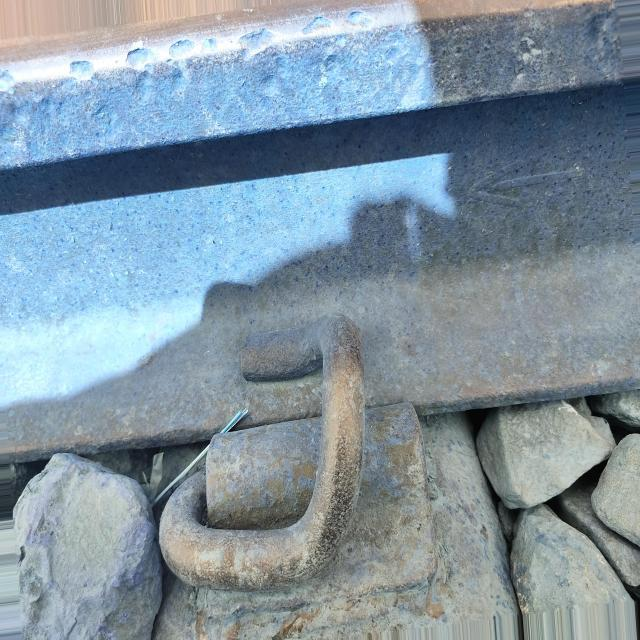Good Fasteners: (146, 301, 456, 638)
